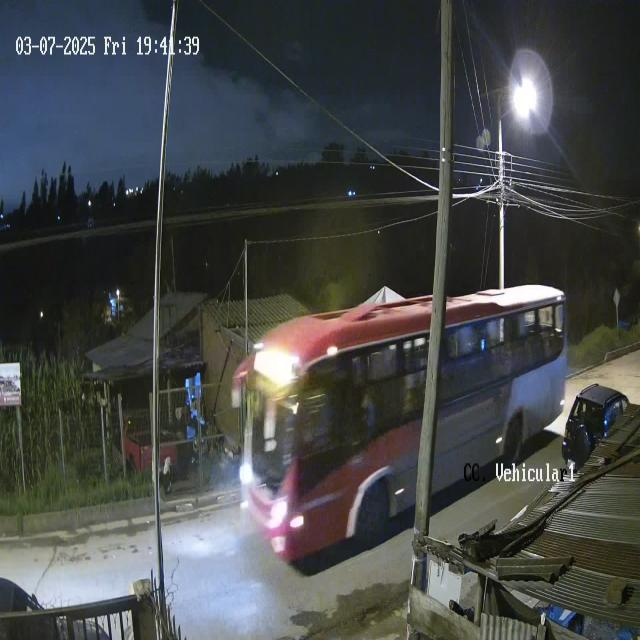BUS: (238, 285, 567, 565)
